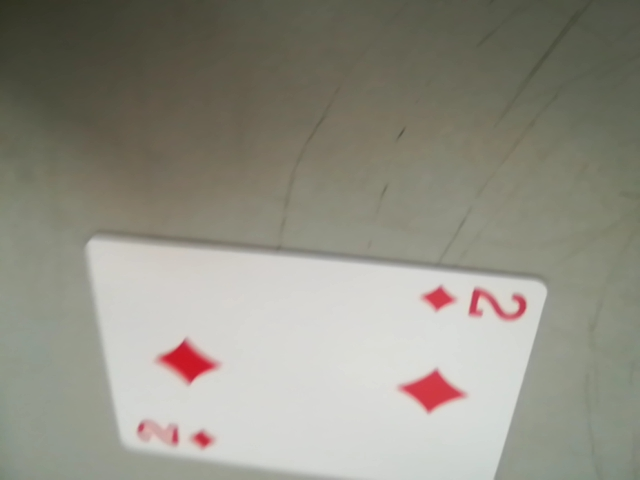fk 2: (417, 277, 535, 327), (127, 411, 227, 461)
